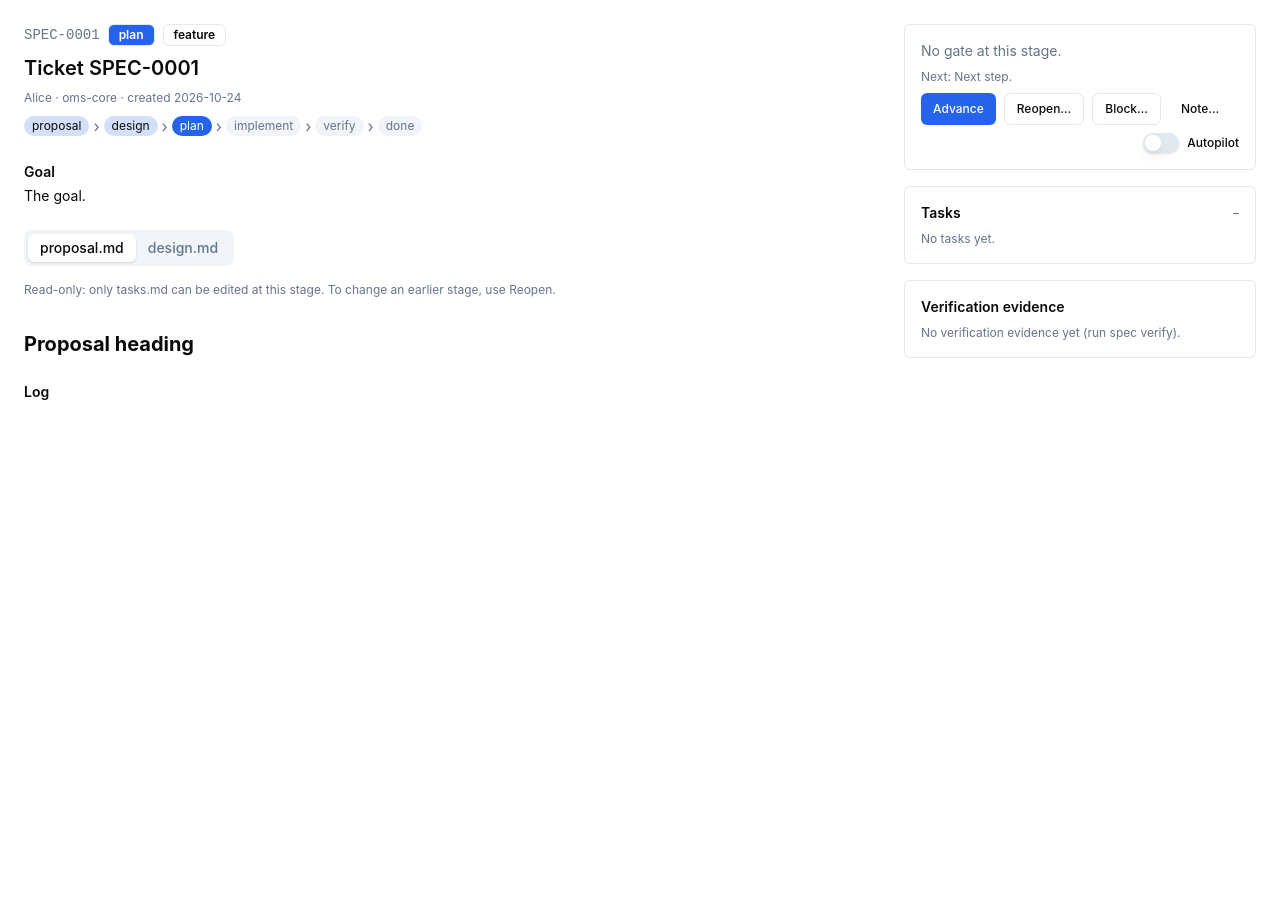
Scenario: TicketDetail mermaid › renders a mermaid block in design.md as a diagram
Press the mouse on the tab "design.md" at (183, 248), box [136,234,230,262]
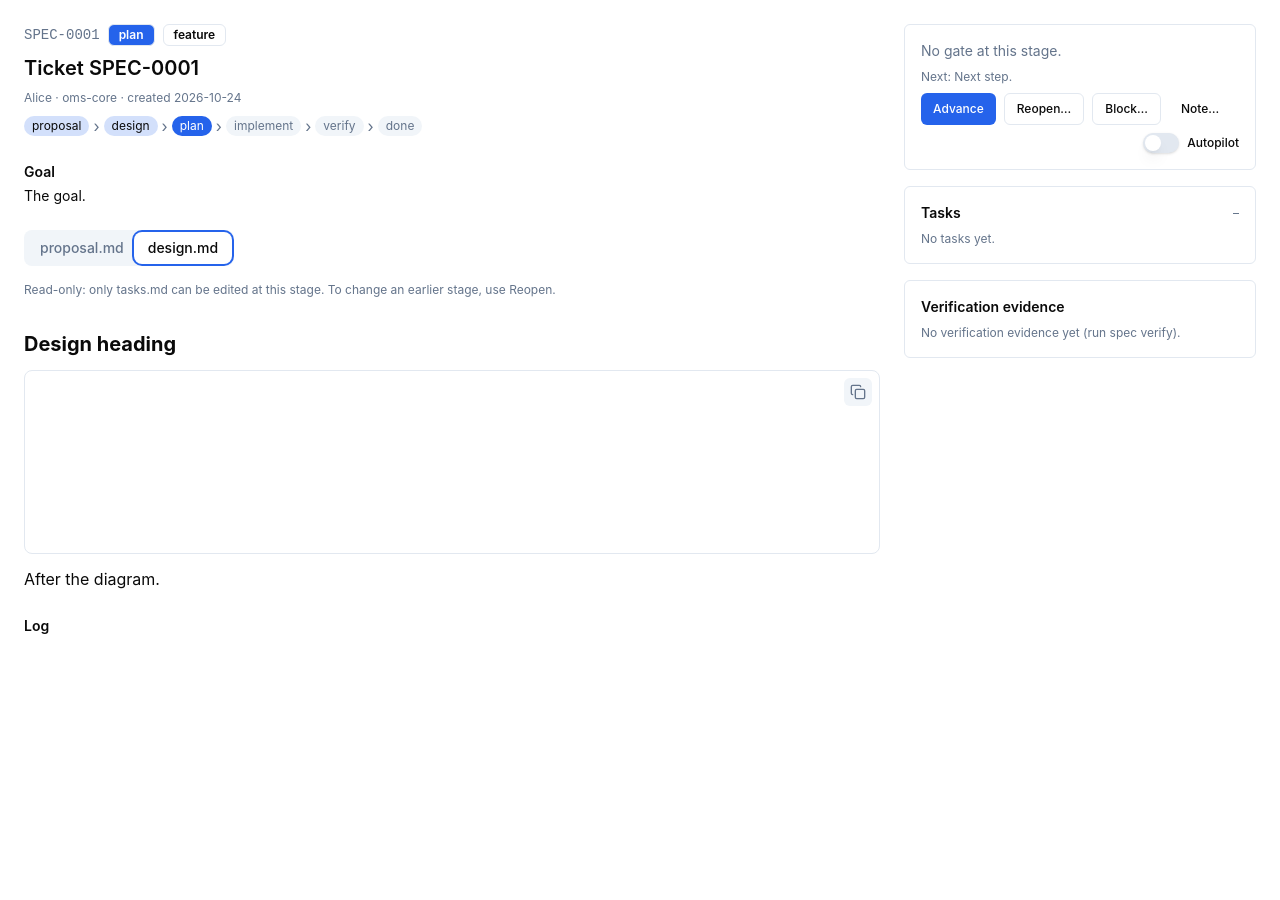
Result: the text "After the diagram." is shown at [24,569,160,589]
